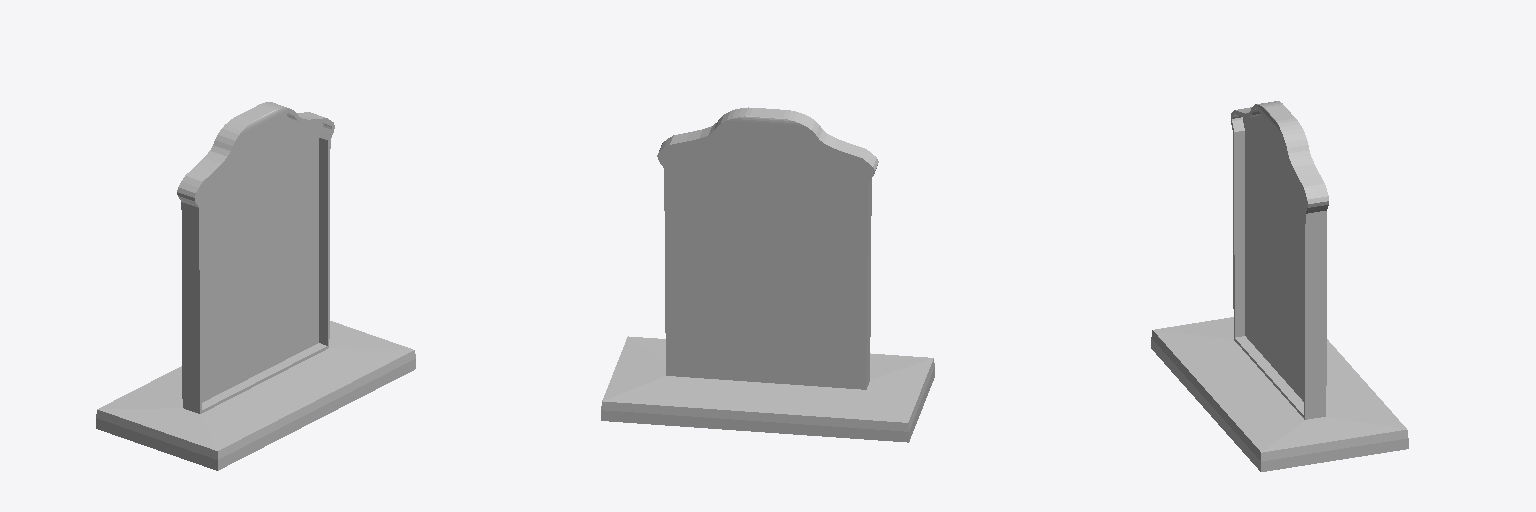
Rendered from Tombn.obj.
3 views of the same model, side by side, from view 1: azimuth 30°, elevation 25°; view 2: azimuth 150°, elevation 25°; view 3: azimuth 270°, elevation 25° (orthographic).
Visible parts, largest first — view 1: Cube_Cube.004; view 2: Cube_Cube.004; view 3: Cube_Cube.004.
Part boxes in pixels (bbox=[...]): Cube_Cube.004: bbox=[96, 102, 415, 470]; Cube_Cube.004: bbox=[601, 107, 934, 442]; Cube_Cube.004: bbox=[1151, 101, 1408, 471].
Bounding box in the file's own units: 1.57 × 1.43 × 1.16.